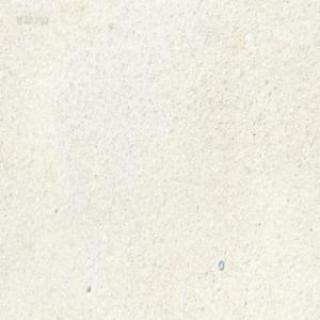Washertrack_idkeyframe: (217, 258, 223, 270)
